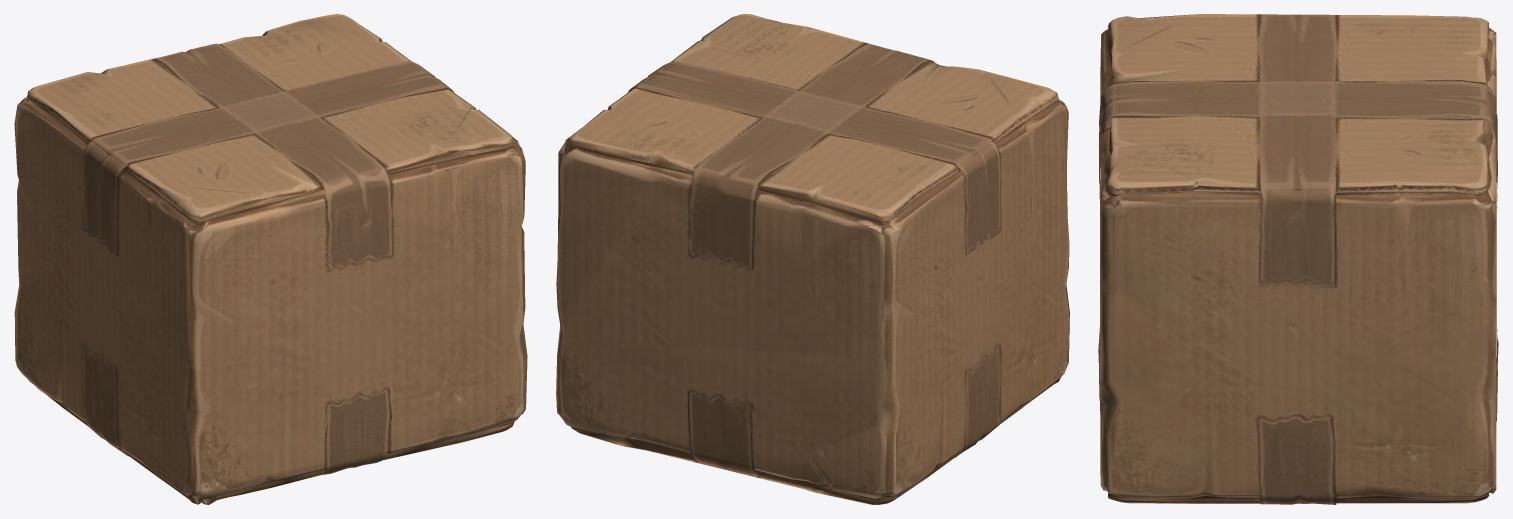
The picture shows the model from 3 angles, left to right: view 1: azimuth 30°, elevation 25°; view 2: azimuth 150°, elevation 25°; view 3: azimuth 270°, elevation 25°; orthographic projection. The views are drawn at different scales.
Parts seen in each view (by area): view 1: box; view 2: box; view 3: box.
Boxes of the visible parts, left/top/right/bottom form: box: left=14, top=14, right=527, bottom=504; box: left=556, top=14, right=1069, bottom=504; box: left=1098, top=14, right=1498, bottom=504.
Bounding box in the file's own units: 0.62 × 0.514 × 0.5742.
1 material, 1 textured.
